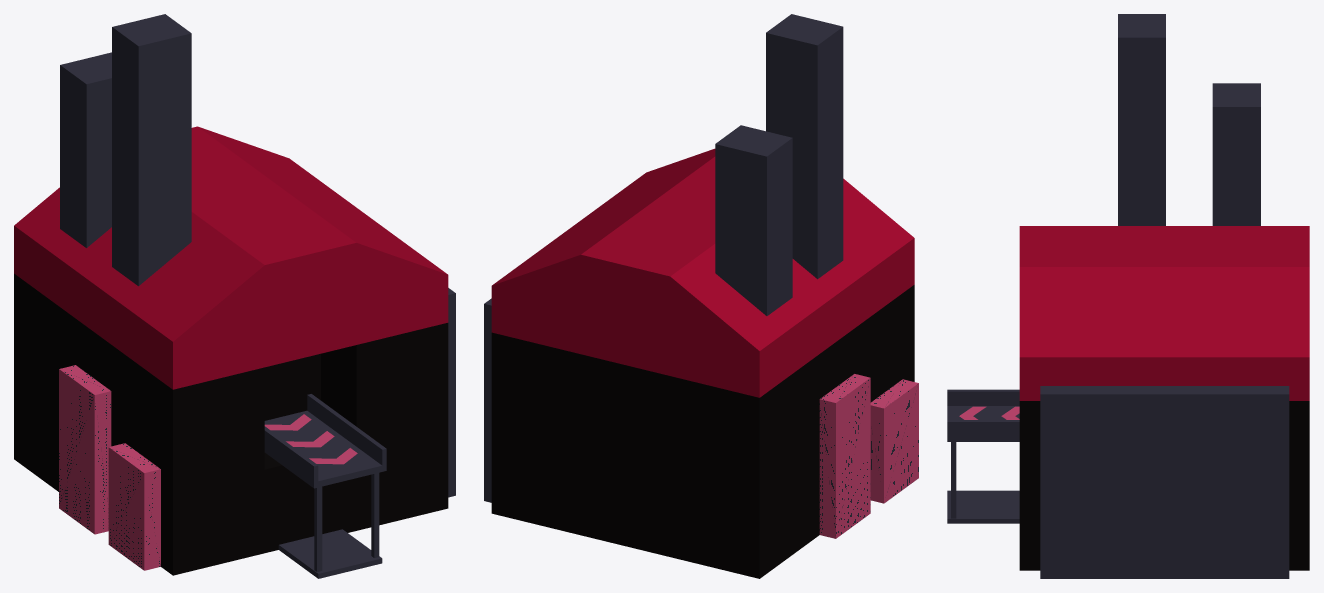
File: factory.glb
3 views of the same model, side by side, from view 1: azimuth 30°, elevation 25°; view 2: azimuth 150°, elevation 25°; view 3: azimuth 270°, elevation 25° (orthographic). The views are drawn at different scales.
Parts seen in each view (by area): view 1: factory; view 2: factory; view 3: factory.
Boxes of the visible parts, x1,y1,x2,y2 form: factory: (14, 14, 455, 578); factory: (484, 14, 918, 578); factory: (947, 14, 1309, 578).
Bounding box in the file's own units: 2.26 × 3.37 × 2.5.
Materials: 1 (1 with a texture image).
